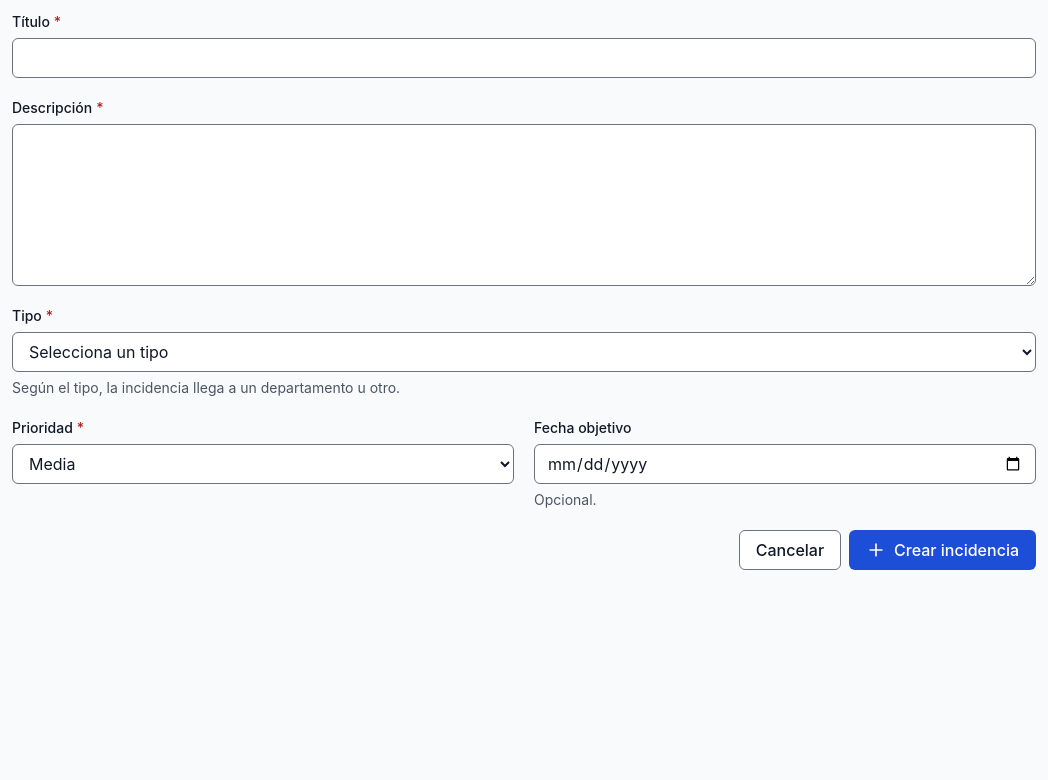
Test: IncidentForm · alta › el error de un campo desaparece al cambiar su valor
Click the button "Crear incidencia".
click(943, 550)  # box [849,530,1036,570]
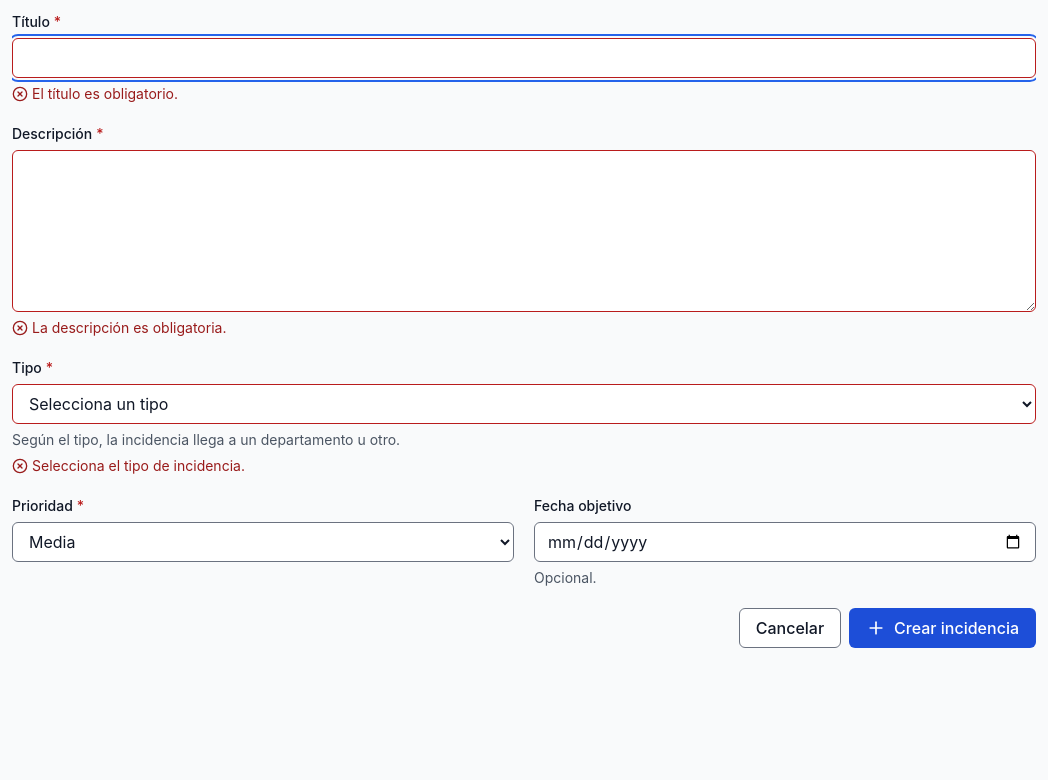
Type "Palé dañado" into the field labelled "Título*".
click(524, 58); type("Palé dañado")  # box [12,38,1036,78]
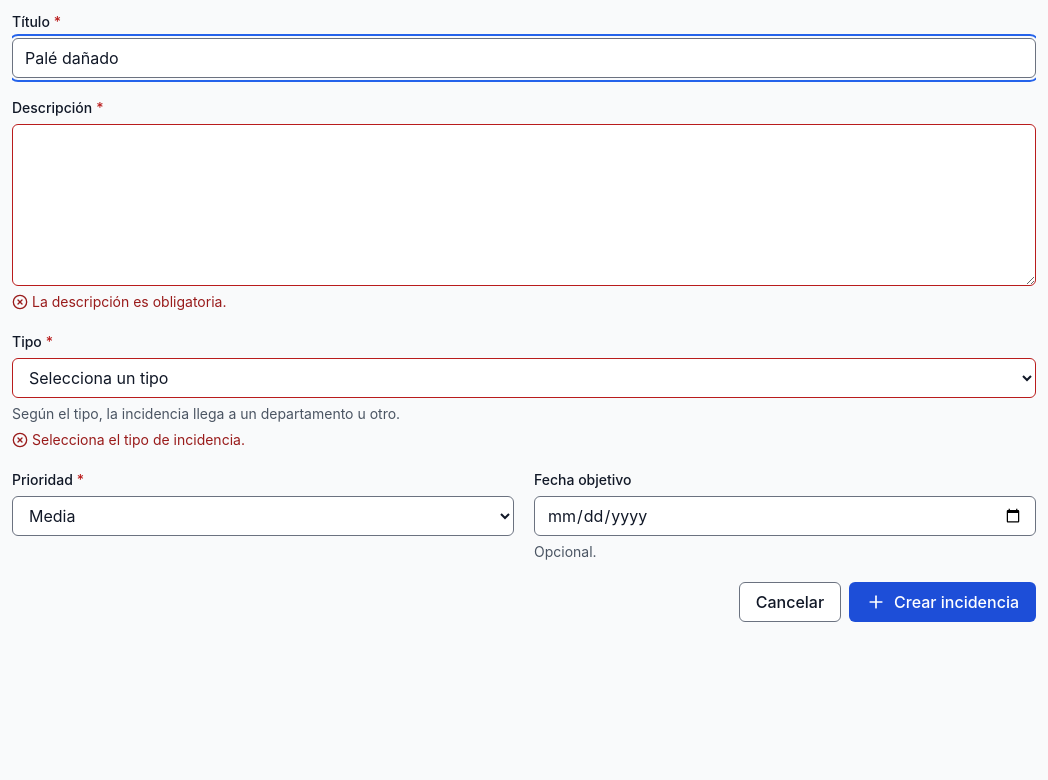
Expected: the text "La descripción es obligatoria." is shown, [32,292,226,312]
Expected: the text "El título es obligatorio." is gone
